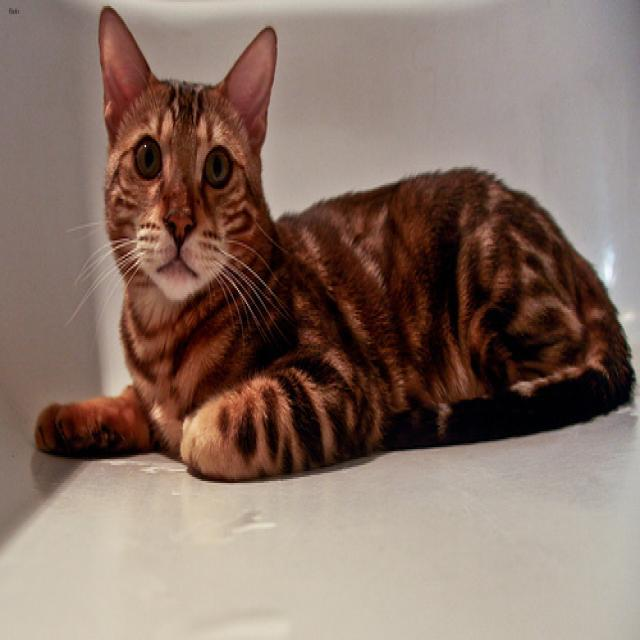Bengal: (93, 3, 280, 303)
